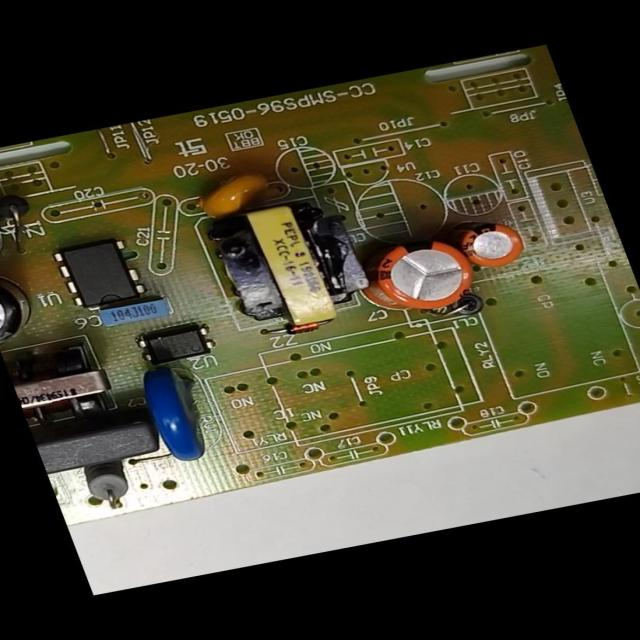Cap1: (336, 222, 490, 328)
Cap2: (446, 209, 540, 277)
Cap3: (0, 263, 47, 349)
Cap4: (0, 189, 17, 280)
MOSFET: (46, 231, 159, 324)
Mov: (127, 358, 230, 472)
Resistor: (73, 453, 144, 511)
Transformer: (185, 184, 387, 339), (1, 332, 133, 438)
